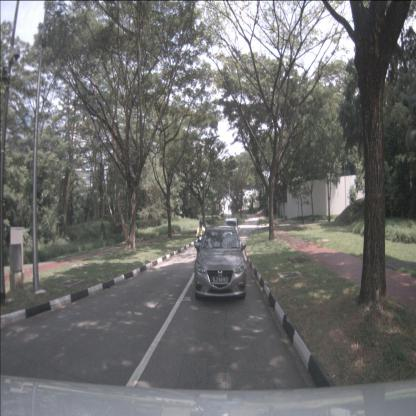vehicle-car: (194, 224, 247, 300), (222, 218, 241, 245)
vehicle-motorcycle: (195, 219, 207, 262)
